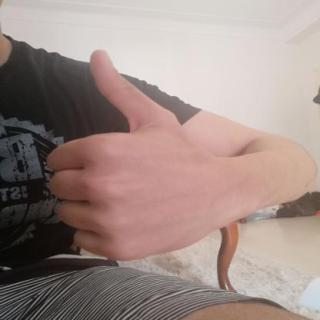ALIF: (21, 36, 231, 266)
